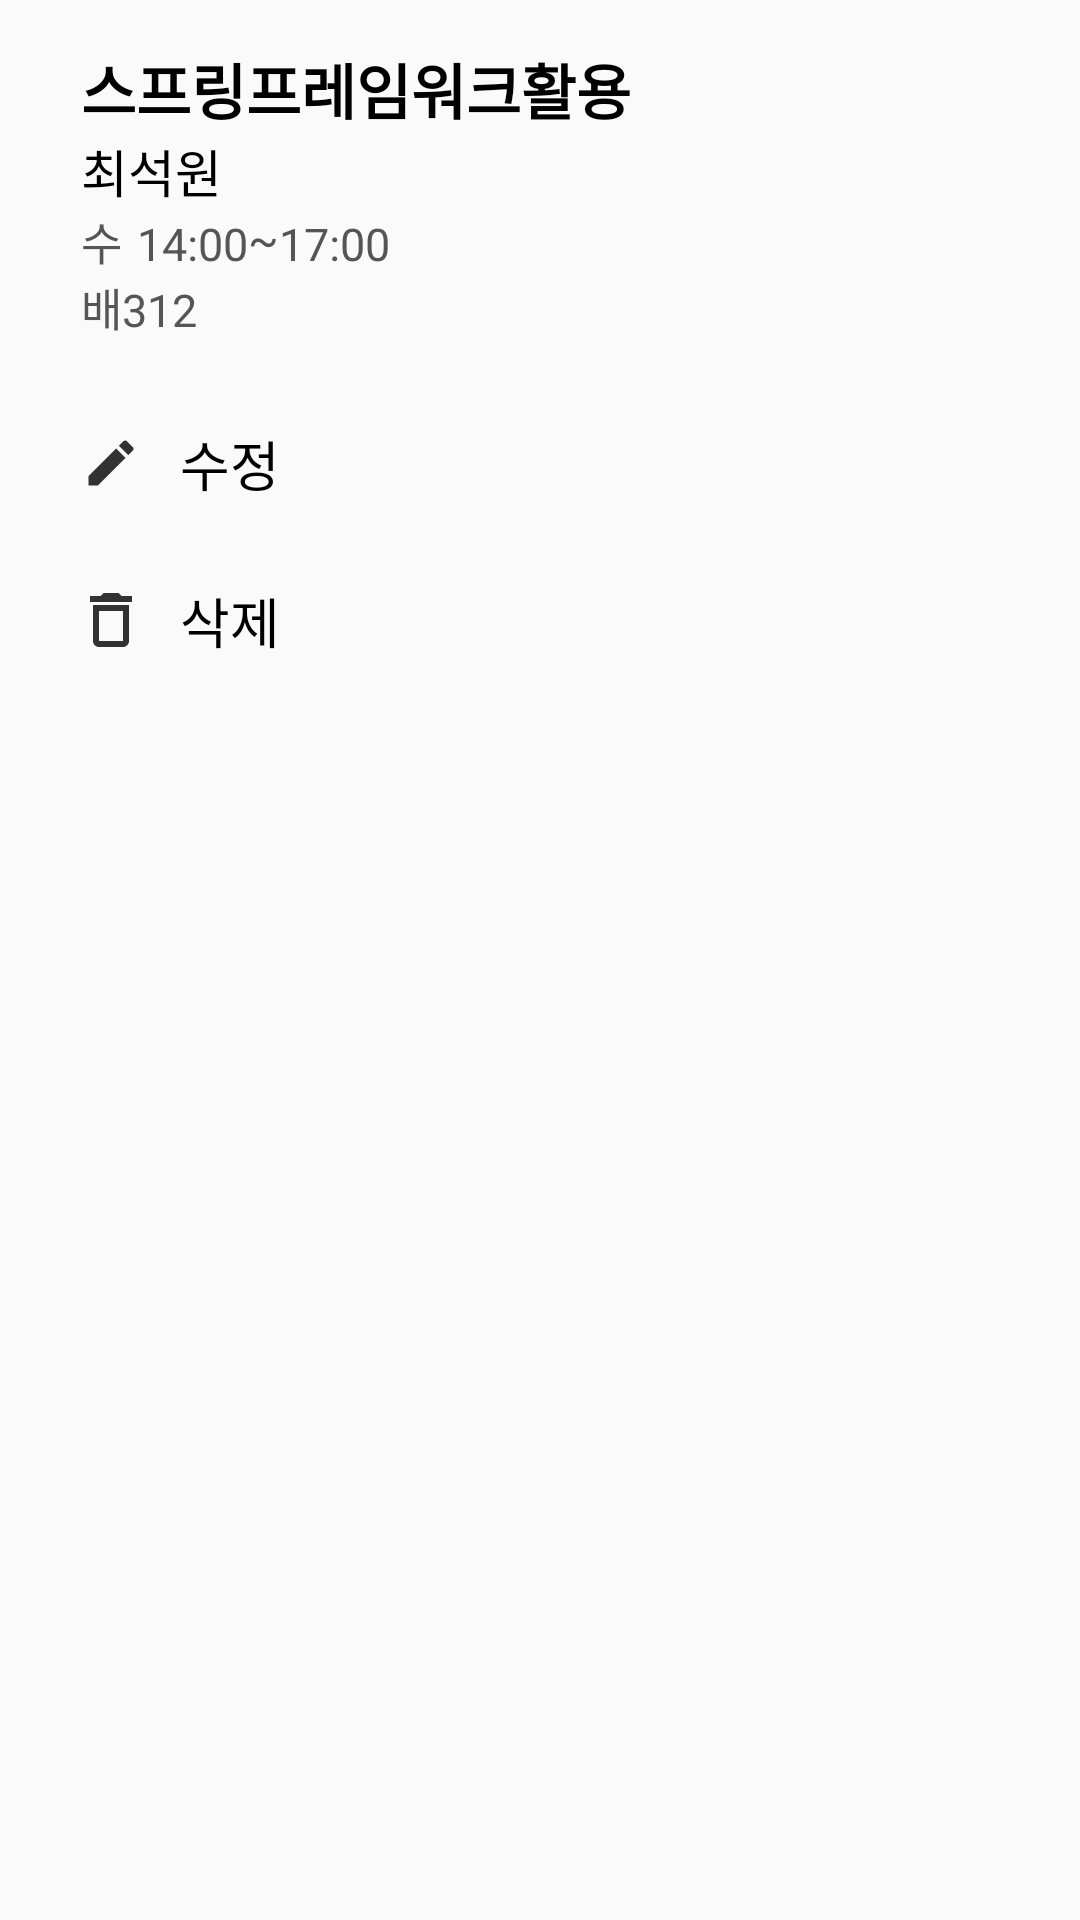

Screen size 1080w x 1920h. Icon name, then its box in pixels as bbox=(x1, y1, x2, y2):
delete: bbox=(90, 593, 132, 647)
edit: bbox=(88, 440, 134, 486)
